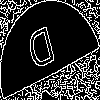D: (25, 25, 59, 80)
